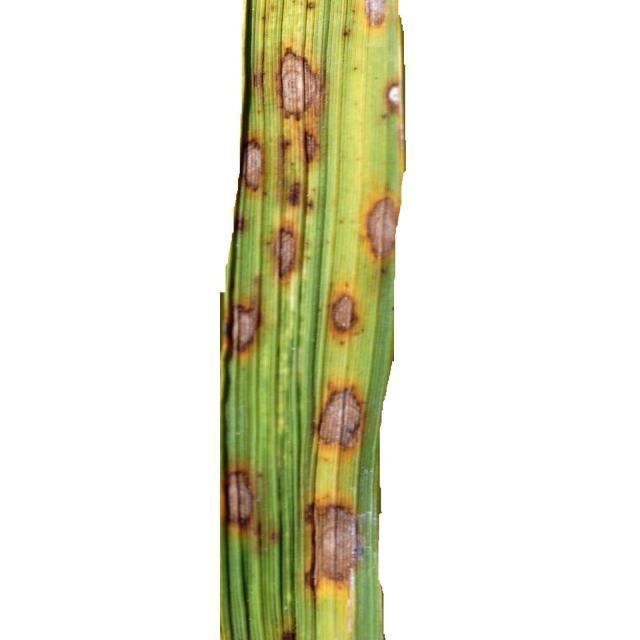Brown spot: (300, 499, 368, 606), (308, 376, 380, 458), (360, 180, 414, 268), (282, 123, 338, 205), (268, 37, 324, 115), (212, 467, 268, 534), (216, 288, 265, 361), (315, 273, 366, 341), (272, 215, 314, 283), (384, 76, 412, 164), (241, 135, 269, 204), (358, 0, 392, 41), (274, 618, 310, 640), (295, 0, 337, 15)
